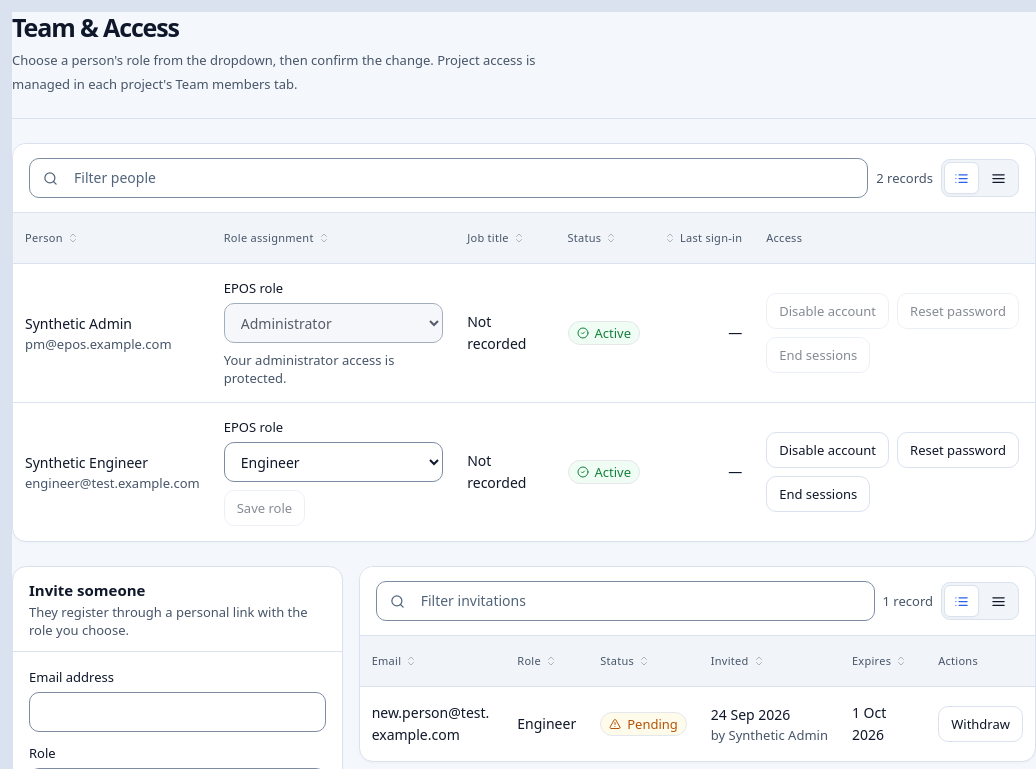
Invitations › withdraws a pending invitation
The width and height of the screenshot is (1036, 769).
Click the button named "Withdraw the invitation for new.person@test.example.com".
click(981, 724)  # box [938, 706, 1023, 742]
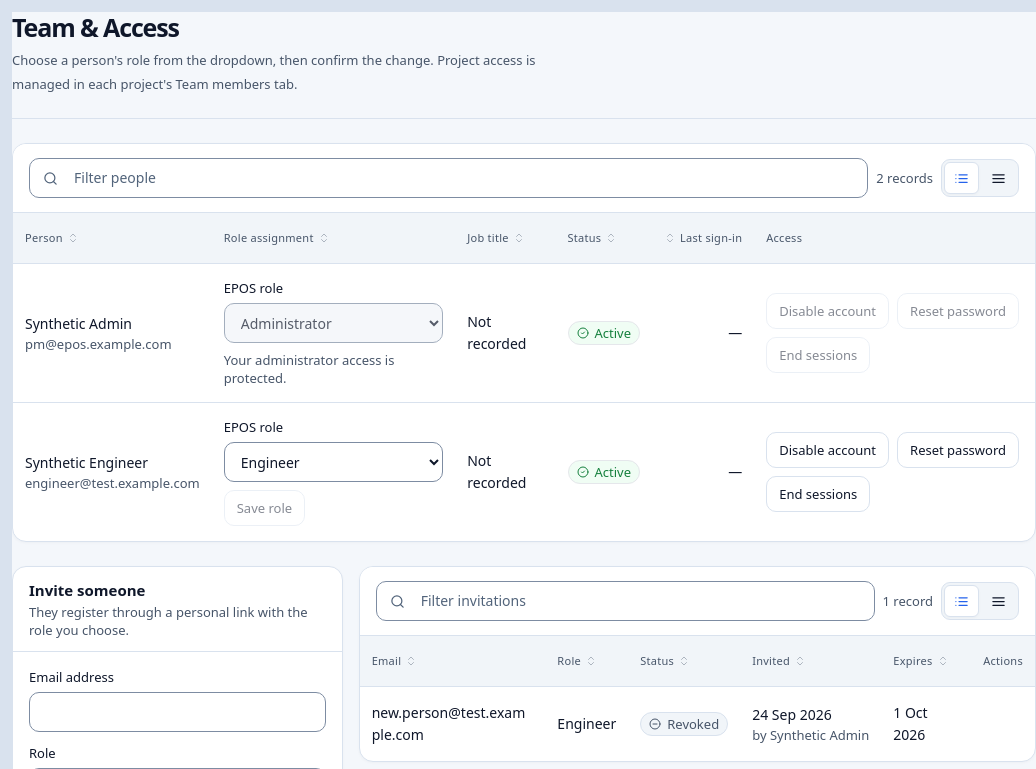
Expected: the text "Revoked" is shown, [640, 712, 728, 736]
